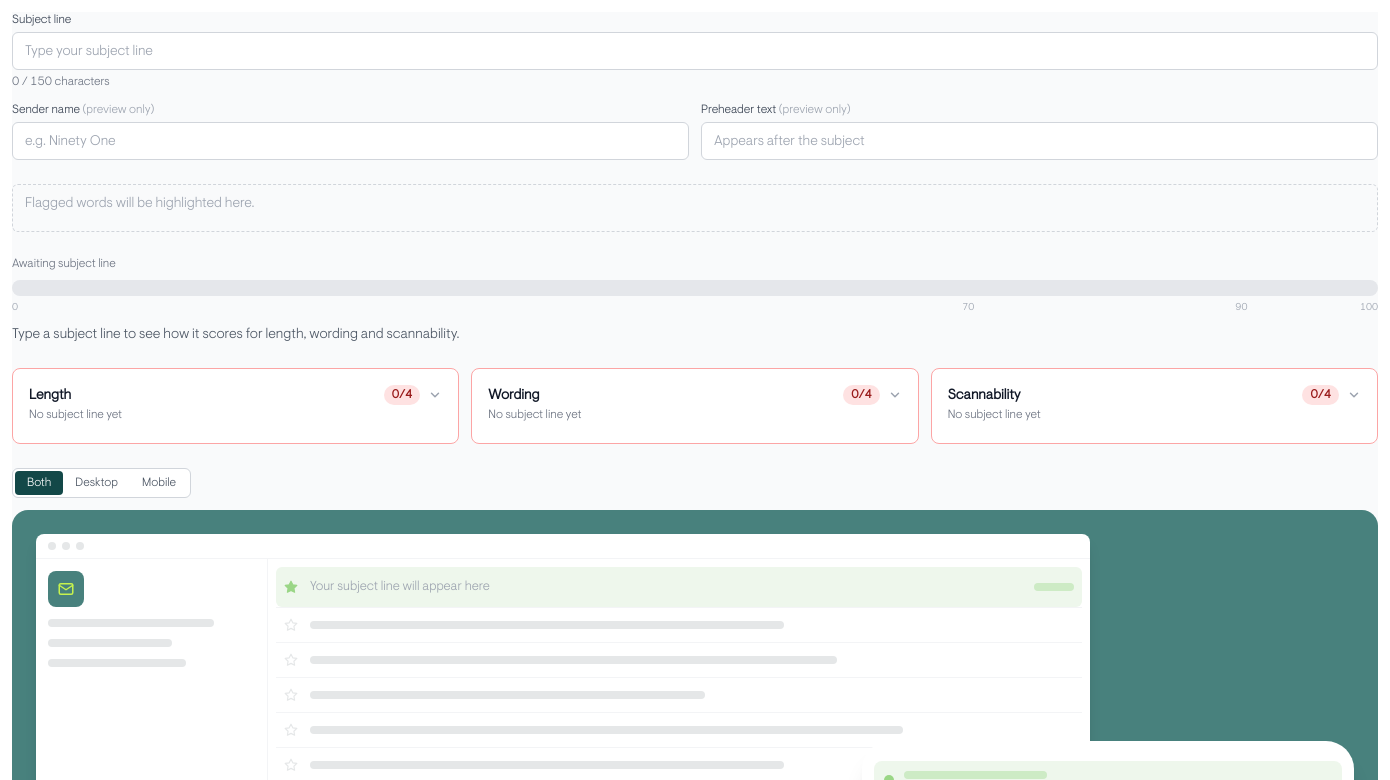
Test: input (AC-15) › shows a character counter
Expected: the text "0 / 150 characters" is shown, [12,74,110,90]
Type "Sale 🇿🇦" into the field labelled "Subject line" at (695, 51), box [12,32,1378,70]
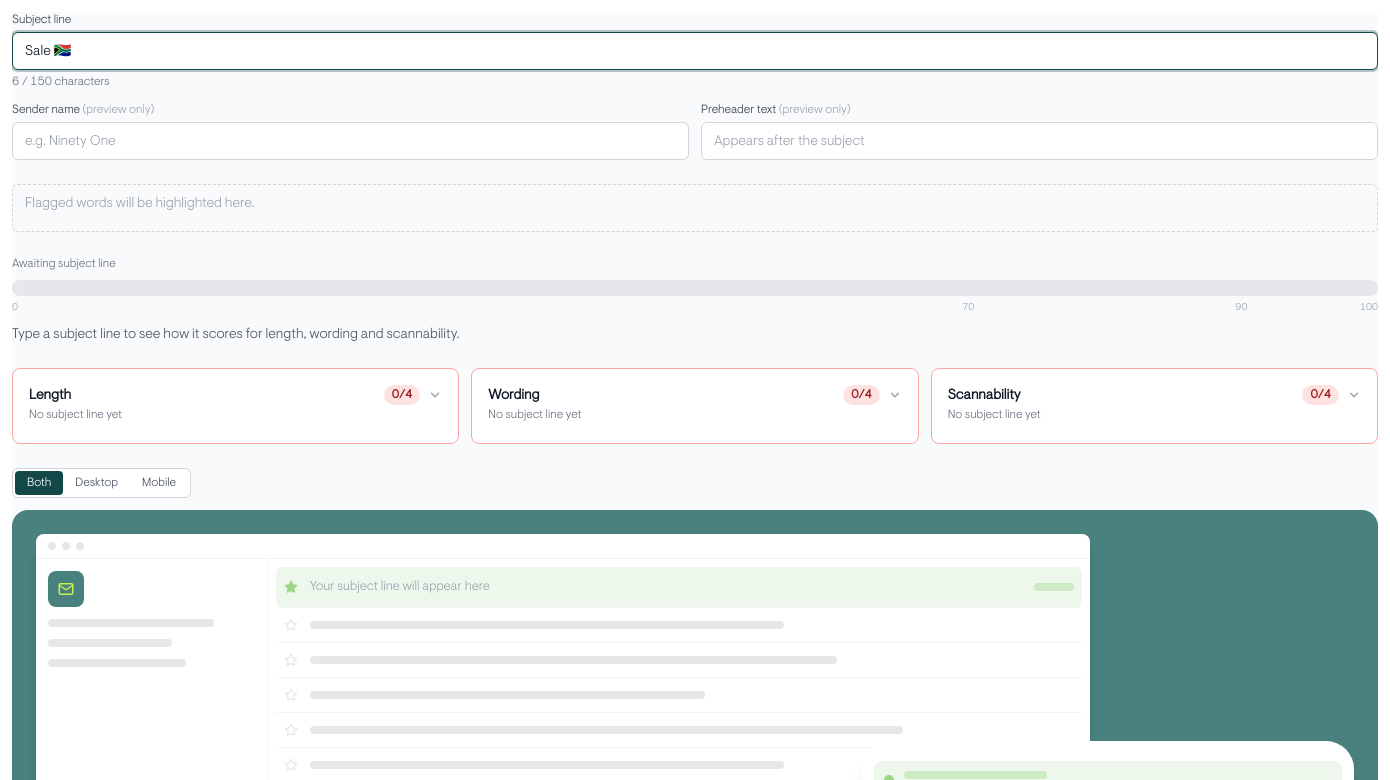
Expected: the text "6 / 150 characters" is shown, [12,74,110,90]
